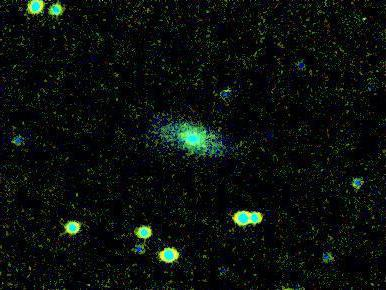star: (70, 179, 100, 209)
